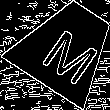M_NE: (32, 14, 101, 81)
